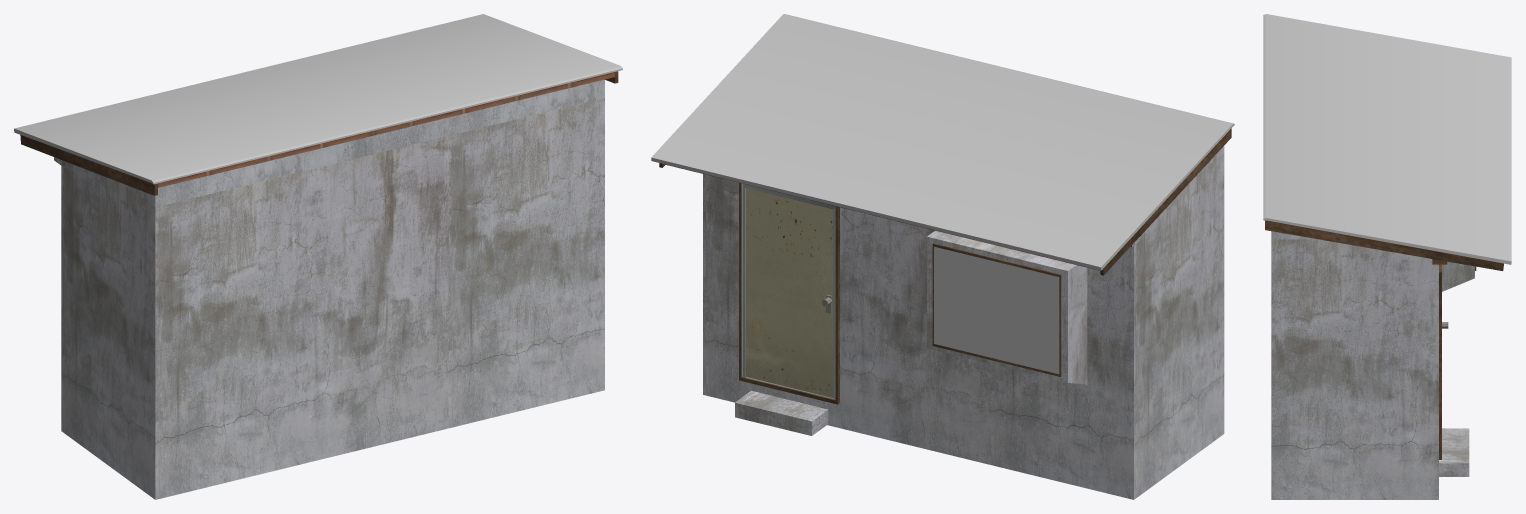
File: ms_h01_side_2.fbx
3 renders of one model, left to right at view 1: azimuth 30°, elevation 25°; view 2: azimuth 150°, elevation 25°; view 3: azimuth 270°, elevation 25°, orthographic. The views are drawn at different scales.
Visible parts, largest first — view 1: ms_h01_side_2; view 2: ms_h01_side_2; view 3: ms_h01_side_2.
Boxes of the visible parts, left/top/right/bottom form: ms_h01_side_2: left=14, top=14, right=622, bottom=499; ms_h01_side_2: left=651, top=14, right=1234, bottom=499; ms_h01_side_2: left=1263, top=14, right=1511, bottom=499.
Size of the model in its own units: 573 by 377 by 295.
